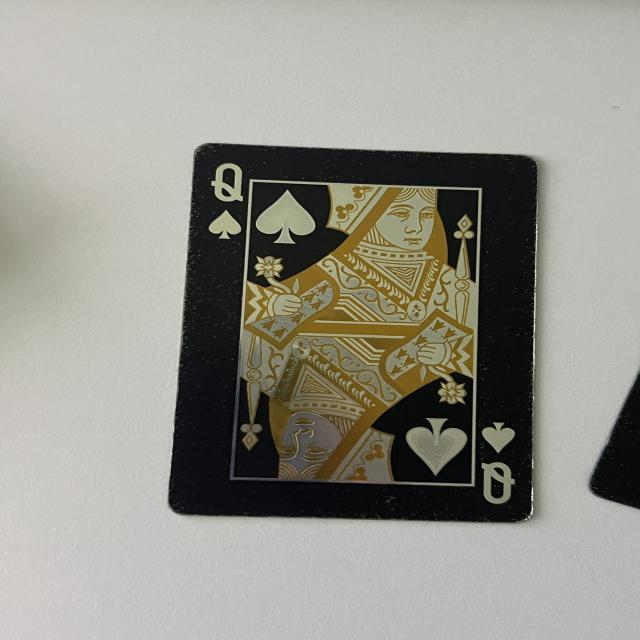QS: (473, 416, 525, 508), (206, 157, 251, 251)
